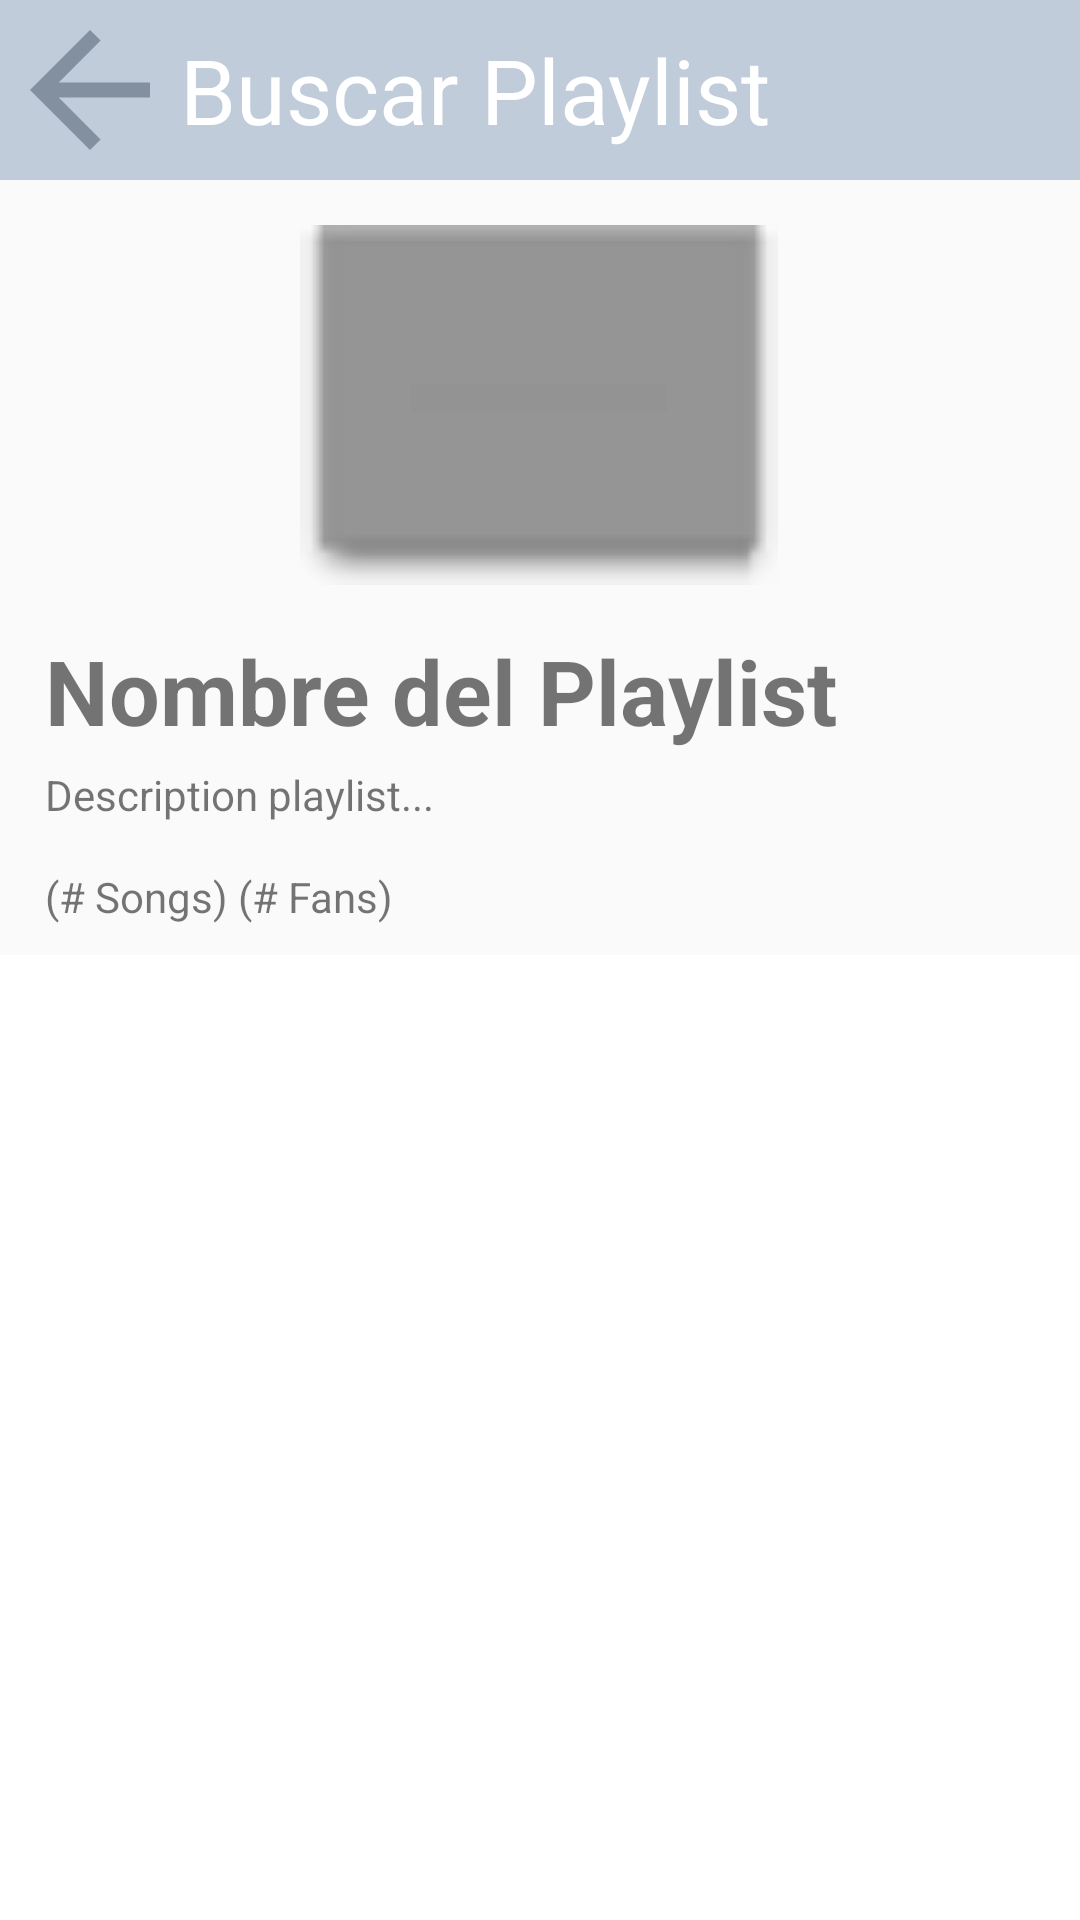

Screen size 1080*1920. Icon name, then its box in pixels as (x1, y1, x2, y2):
arrow back: (30, 30, 150, 150)
